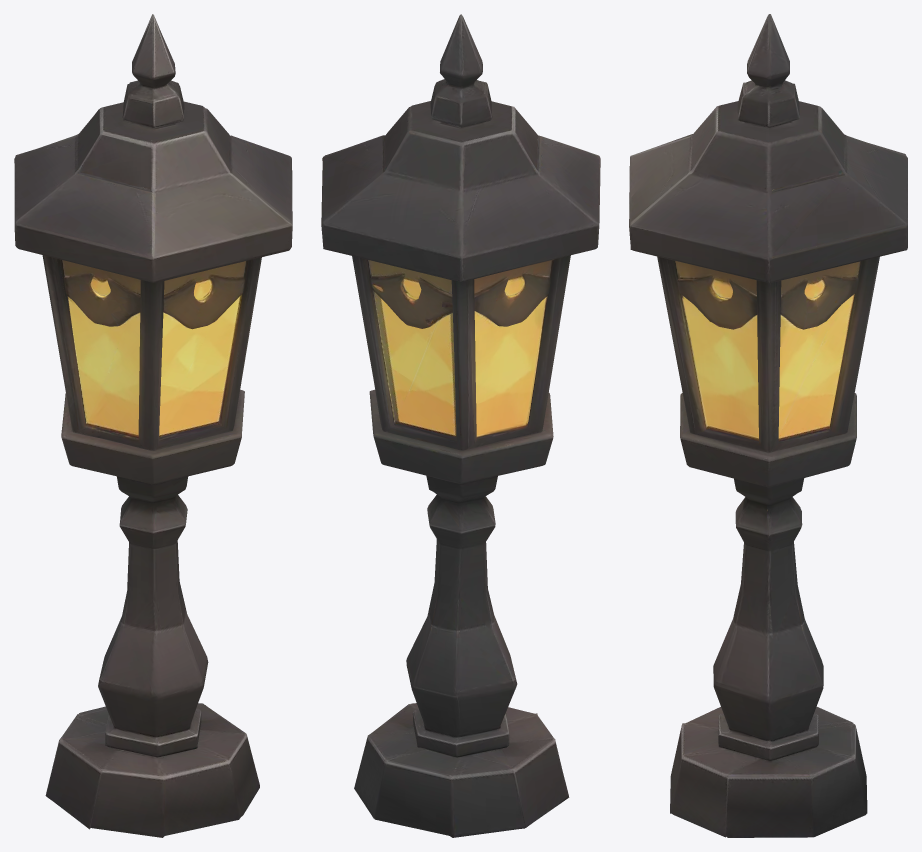
File: lamp.glb
The picture shows the model from 3 angles, left to right: view 1: azimuth 30°, elevation 25°; view 2: azimuth 150°, elevation 25°; view 3: azimuth 270°, elevation 25°; orthographic projection.
Bounding box in the file's own units: 0.3721 × 1 × 0.3233.
1 material, 1 textured.
